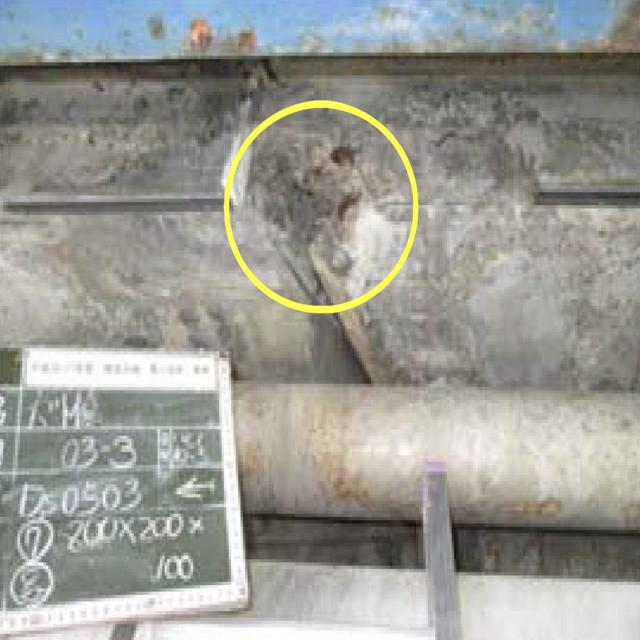spalling: (242, 129, 387, 290)
